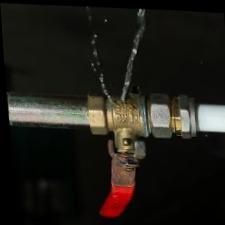leak: (77, 7, 153, 107)
